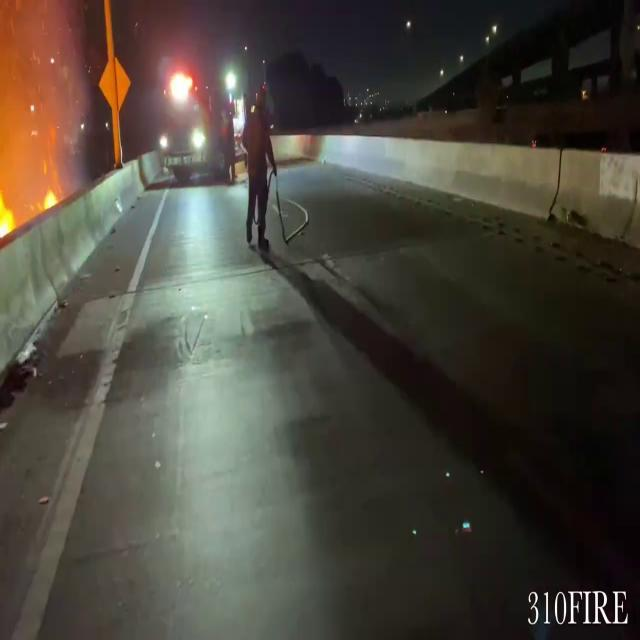Smoke: (0, 0, 86, 186)
